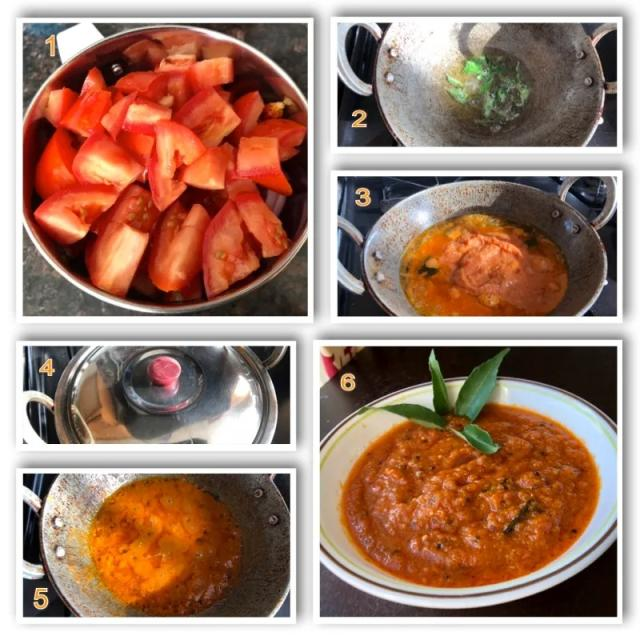kaara chutney: (331, 399, 586, 581)
